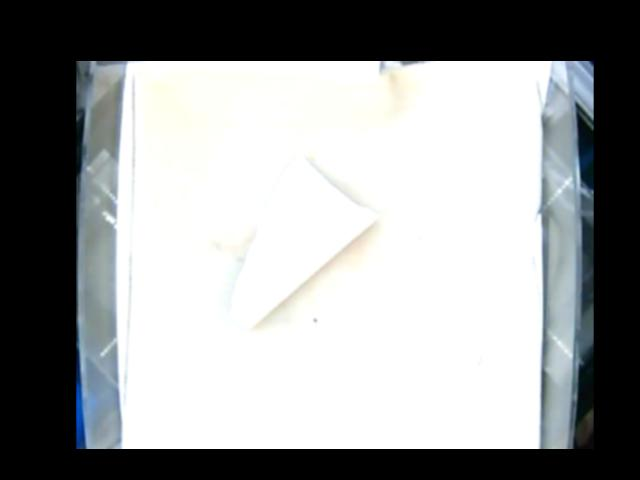China: (230, 153, 377, 332)
